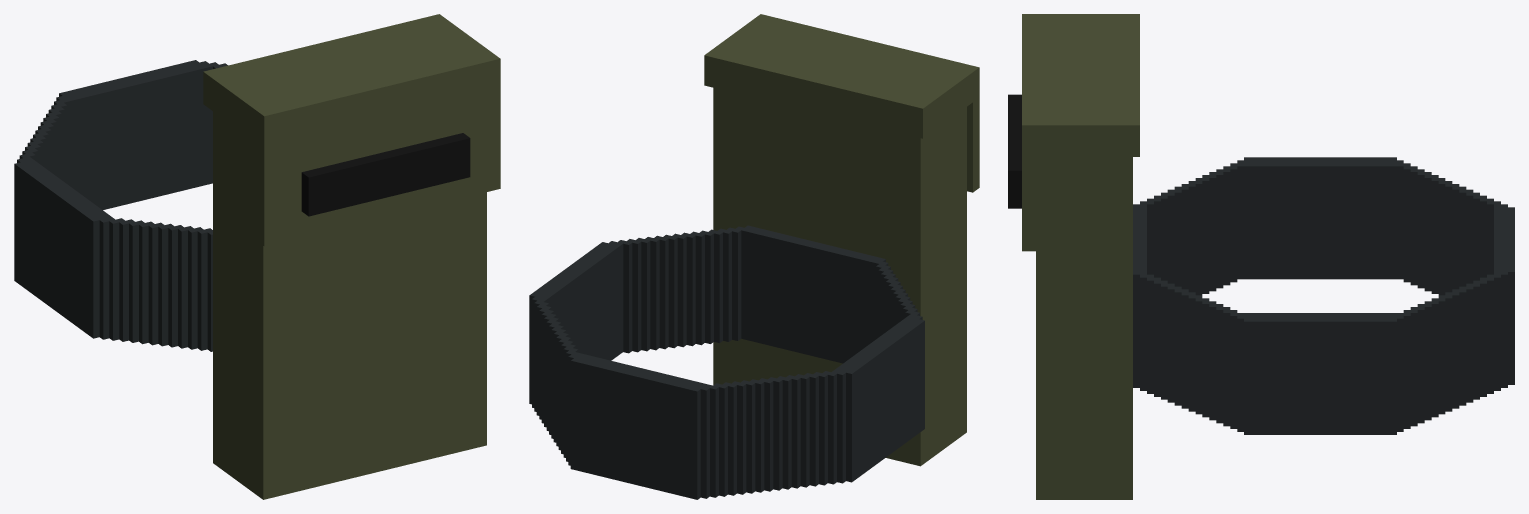
Rendered from legpouch.glb.
The picture shows the model from 3 angles, left to right: view 1: azimuth 30°, elevation 25°; view 2: azimuth 150°, elevation 25°; view 3: azimuth 270°, elevation 25°; orthographic projection. The views are drawn at different scales.
Parts seen in each view (by area): view 1: legpouch:compound; view 2: legpouch:compound; view 3: legpouch:compound.
Part boxes in pixels (bbox=[...]): legpouch:compound: bbox=[14, 14, 500, 499]; legpouch:compound: bbox=[529, 14, 979, 499]; legpouch:compound: bbox=[1008, 14, 1514, 499].
Size of the model in its own units: 0.112 by 0.12 by 0.146.
